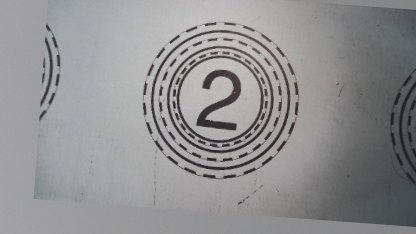2r: (135, 15, 304, 184)
